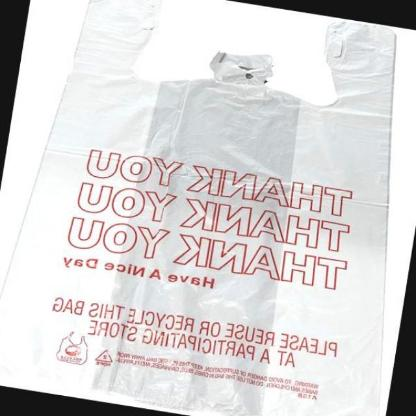Others: (0, 0, 398, 416)
